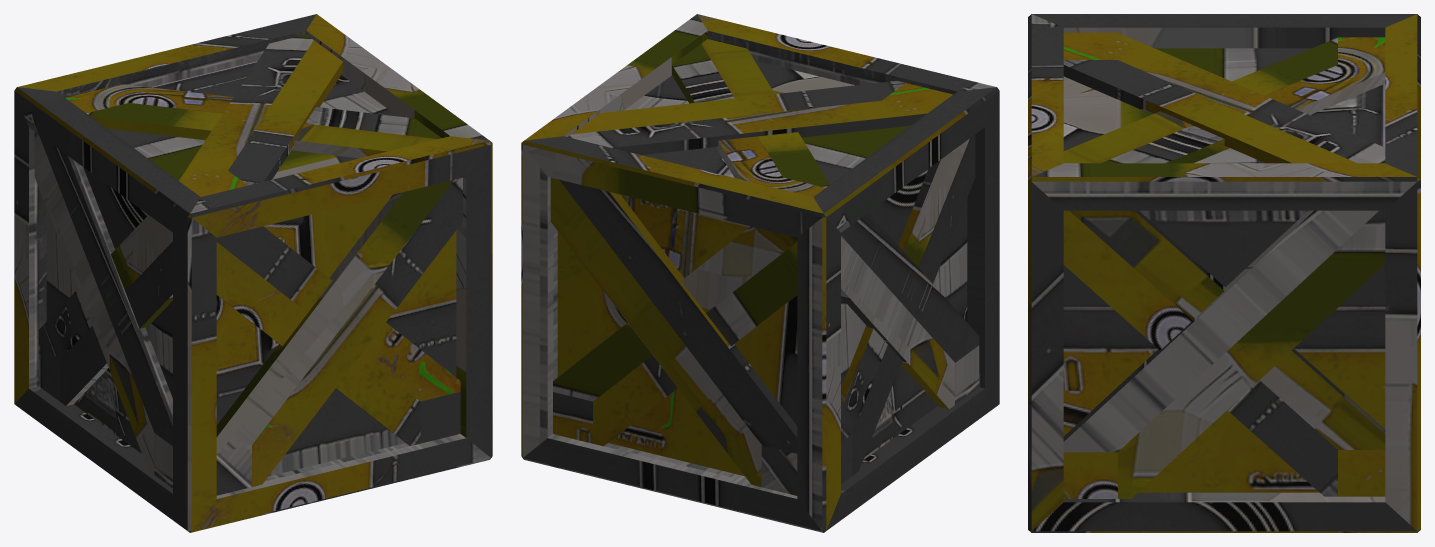
Rendered from crate_wood2.obj.
The picture shows the model from 3 angles, left to right: view 1: azimuth 30°, elevation 25°; view 2: azimuth 150°, elevation 25°; view 3: azimuth 270°, elevation 25°; orthographic projection. The views are drawn at different scales.
Visible parts, largest first — view 1: crate__woodobj:Cube_001_DefaultMaterial_0_0_0_0; view 2: crate__woodobj:Cube_001_DefaultMaterial_0_0_0_0; view 3: crate__woodobj:Cube_001_DefaultMaterial_0_0_0_0.
Part boxes in pixels (x1=…): crate__woodobj:Cube_001_DefaultMaterial_0_0_0_0: x1=14, y1=14, x2=492, y2=532; crate__woodobj:Cube_001_DefaultMaterial_0_0_0_0: x1=521, y1=14, x2=999, y2=532; crate__woodobj:Cube_001_DefaultMaterial_0_0_0_0: x1=1028, y1=14, x2=1420, y2=532.
Bounding box in the file's own units: 128 × 128 × 128.
